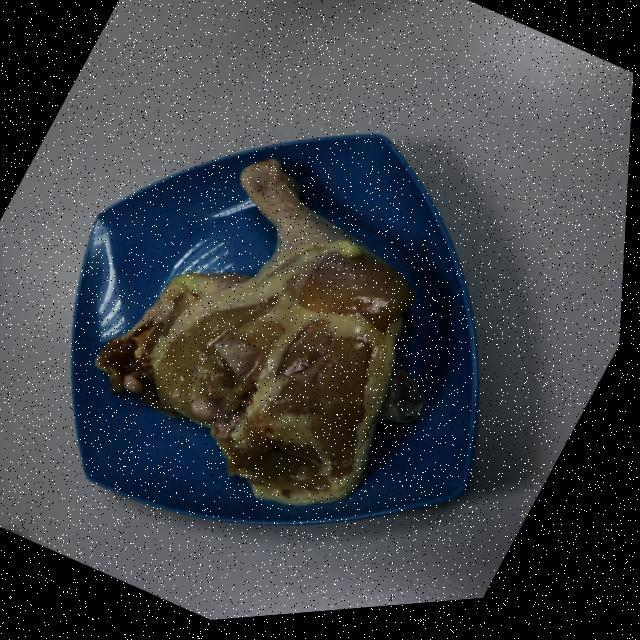quater: (162, 162, 426, 510)
